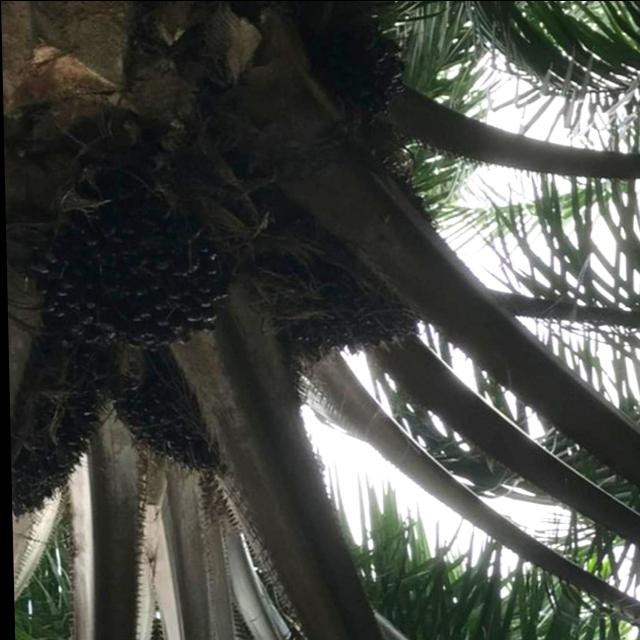almost: (17, 146, 238, 362), (259, 188, 440, 366)
